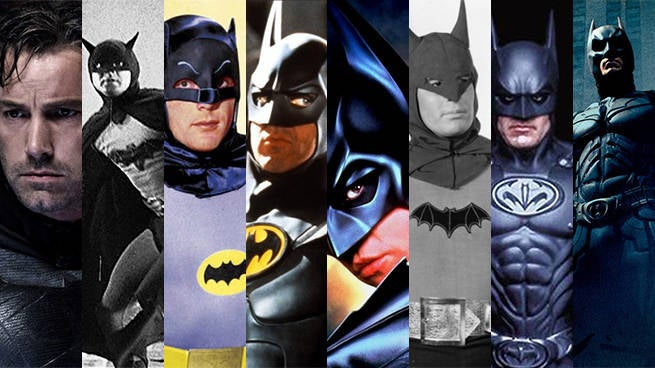bad: (0, 92, 91, 199), (486, 80, 560, 155)
